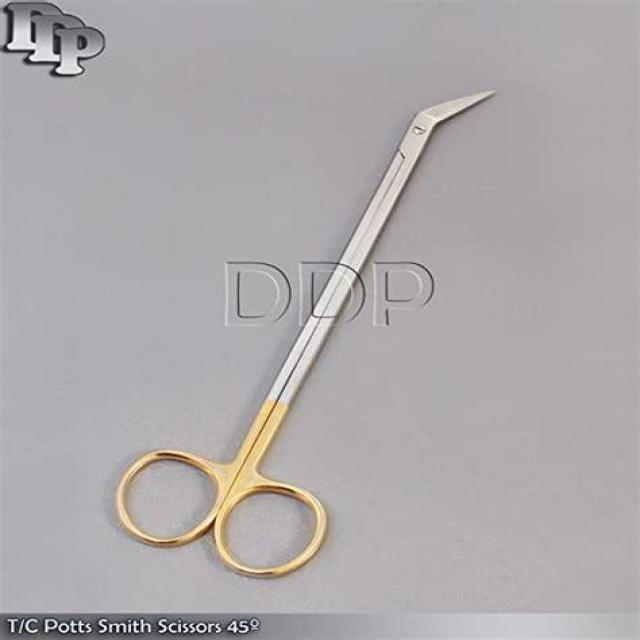Potts: (110, 87, 500, 580)
